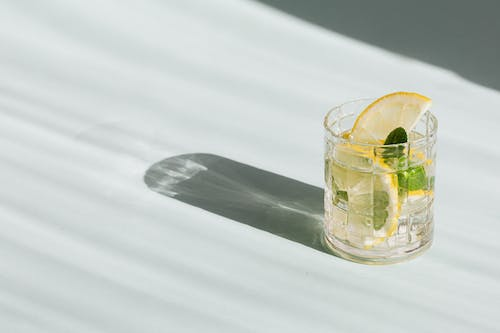alcohol: (320, 97, 439, 266)
